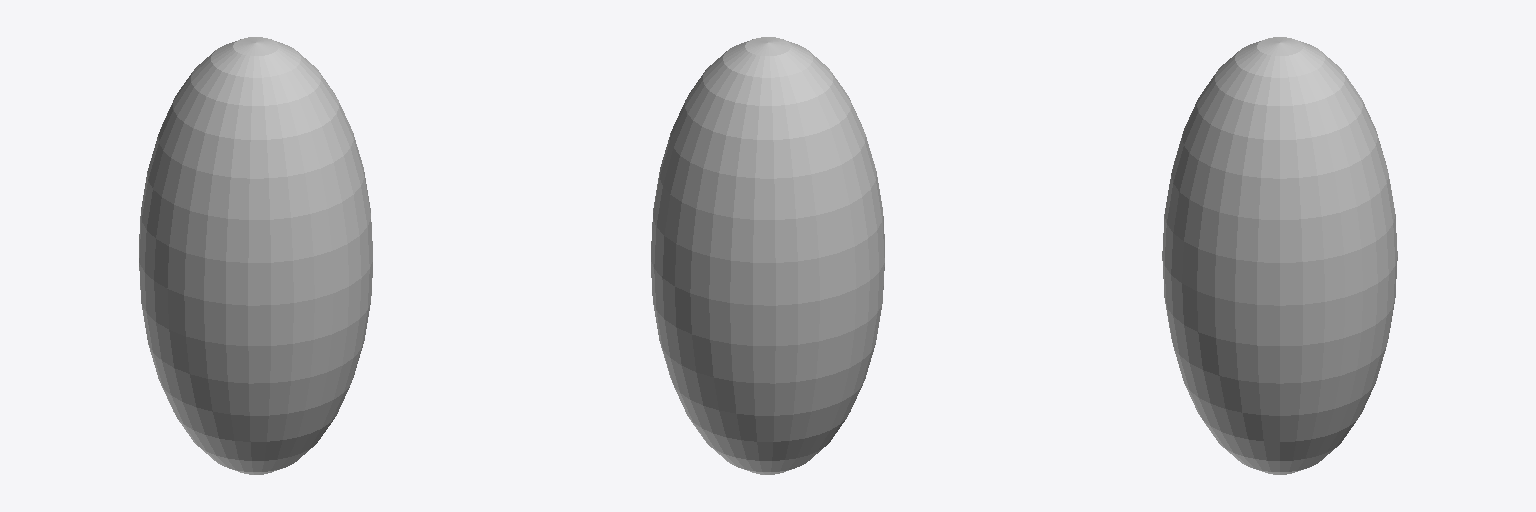
The model's file is Elli.obj.
3 renders of one model, left to right at view 1: azimuth 30°, elevation 25°; view 2: azimuth 150°, elevation 25°; view 3: azimuth 270°, elevation 25°, orthographic.
Parts seen in each view (by area): view 1: Sphere; view 2: Sphere; view 3: Sphere.
Boxes of the visible parts, box(x1,y1,x2,y2) form: Sphere: box(139, 37, 372, 474); Sphere: box(651, 37, 884, 474); Sphere: box(1162, 37, 1397, 474).
Bounding box in the file's own units: 0.5 × 1 × 0.5.